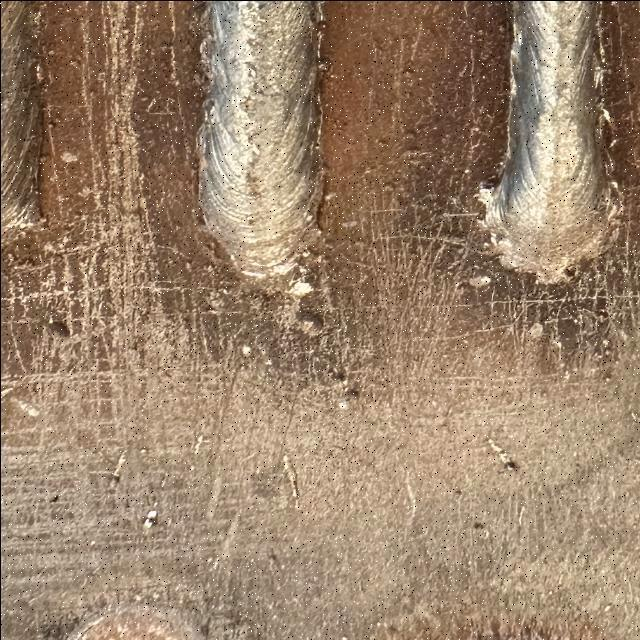Spatters: (142, 508, 156, 528)
